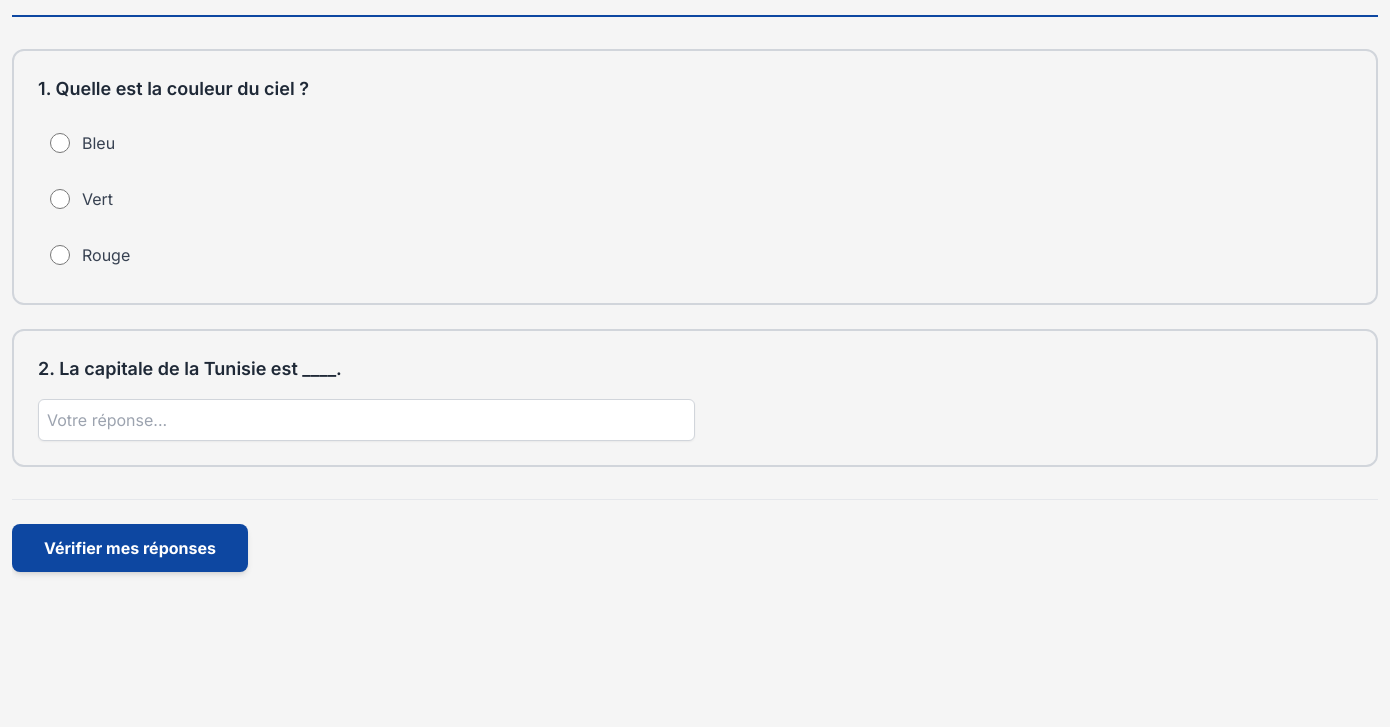
Exercise › permet à l'utilisateur de répondre aux questions et de soumettre
This screenshot has width=1390, height=727.
Click the radio button labelled "Bleu" at (60, 143), box x1=50 y1=133 x2=70 y2=153
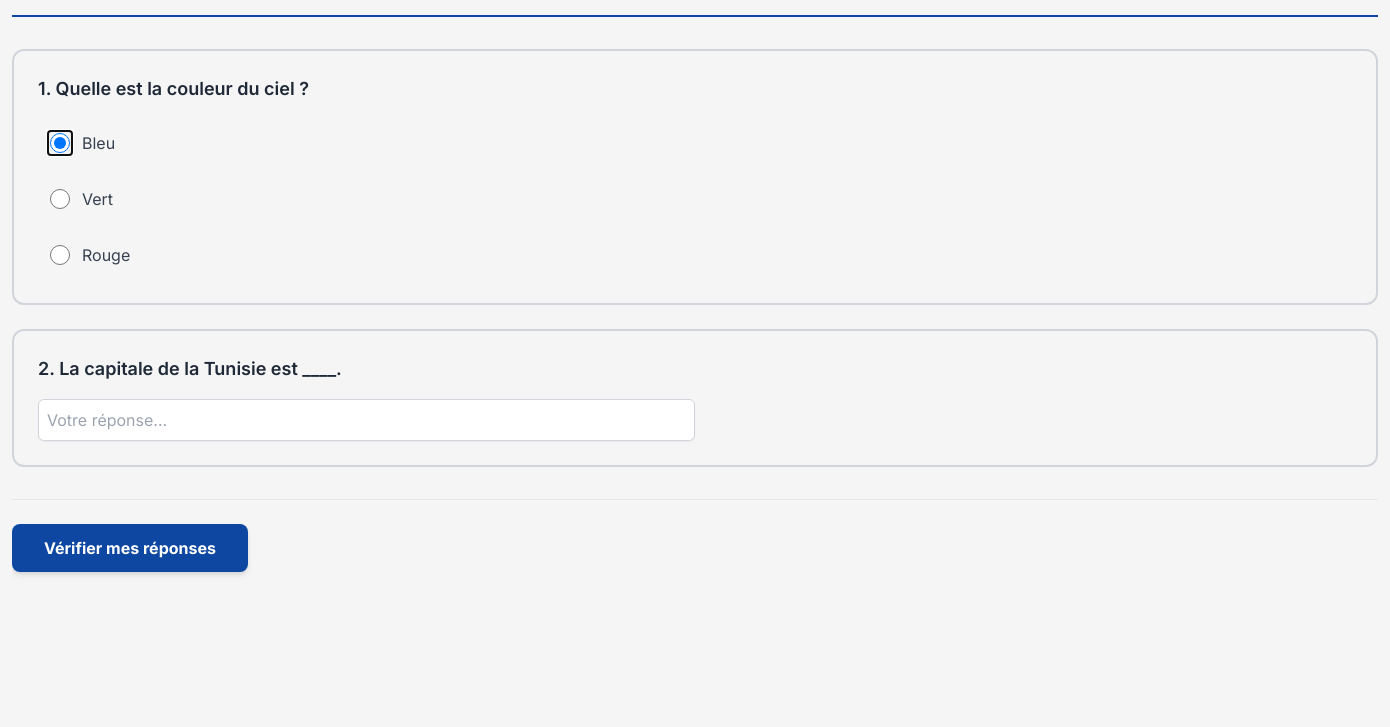
Type "Sfax" into the field with placeholder "Votre réponse..." at (366, 420), box x1=38 y1=399 x2=695 y2=441
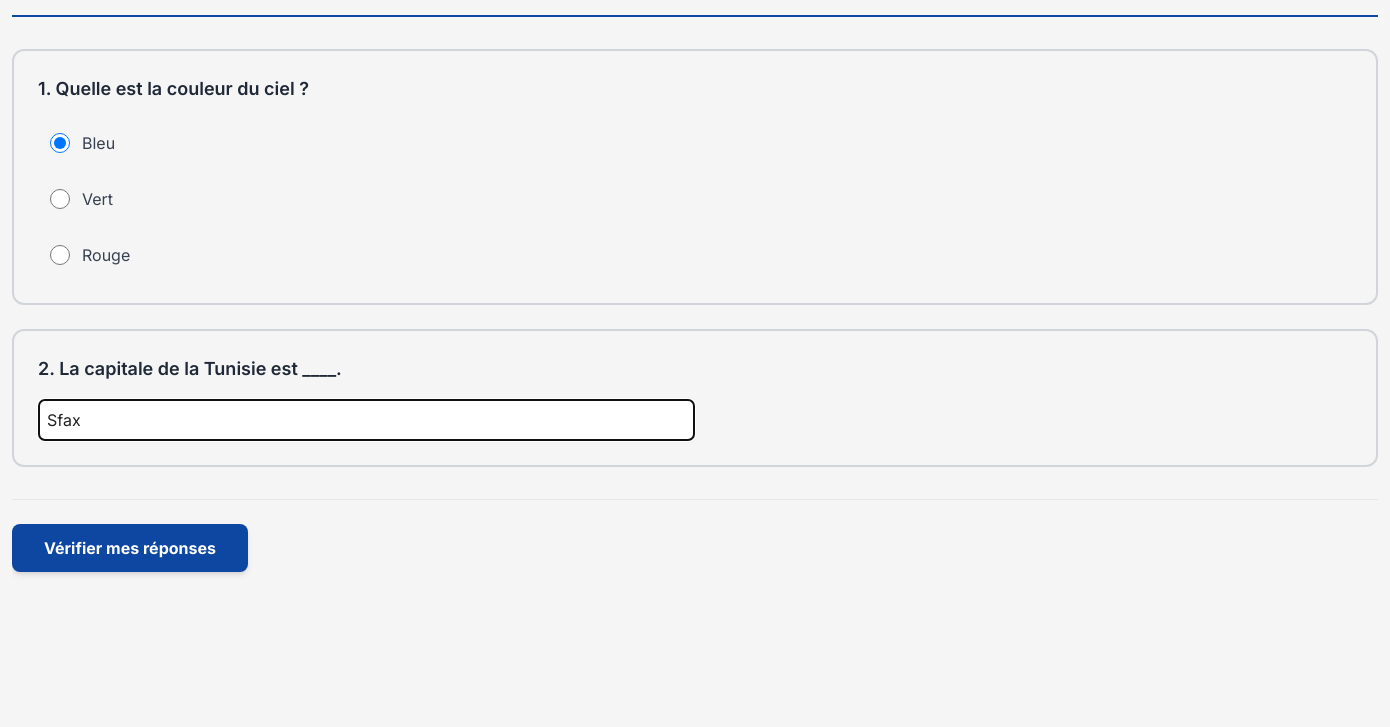
Click the button "Vérifier mes réponses" at (130, 548), box x1=12 y1=524 x2=248 y2=572
(page scrolled)
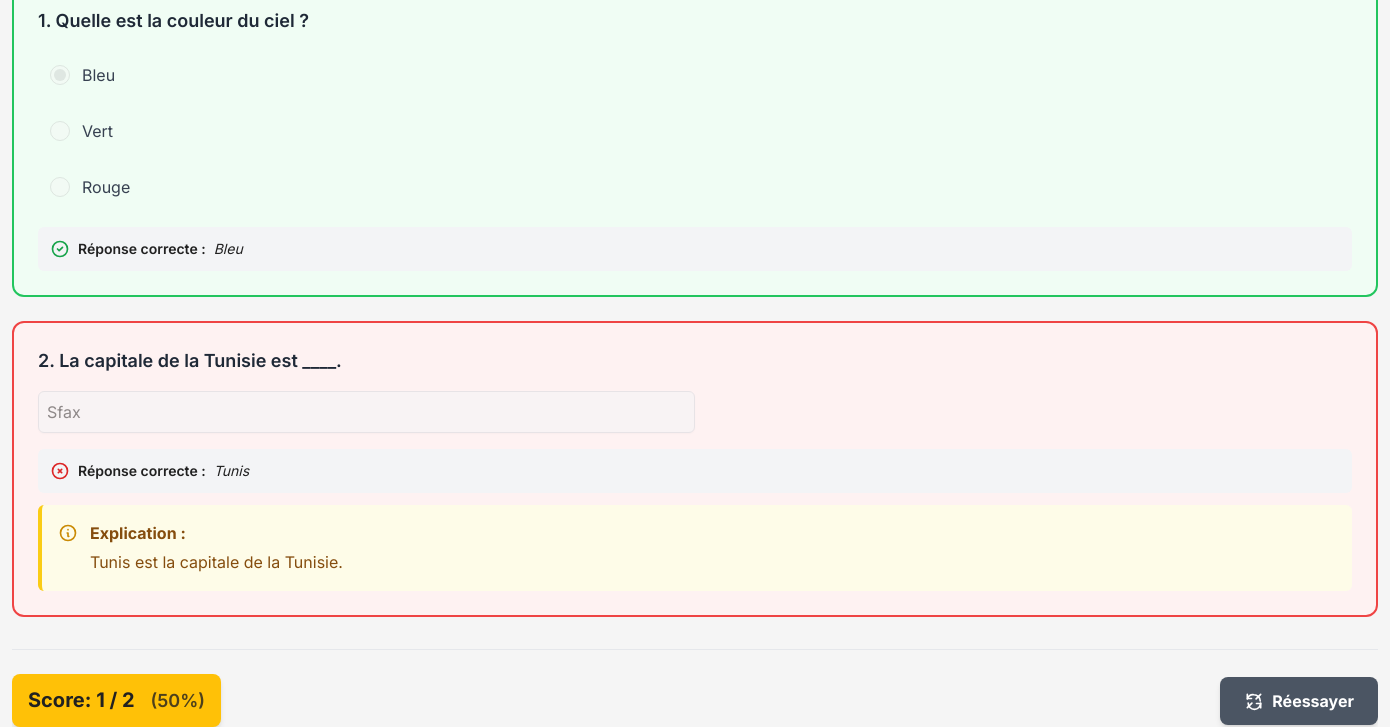
Result: the text "Score: 1 / 2" is shown at x1=28 y1=686 x2=135 y2=714
Result: the text "(50%)" is shown at x1=151 y1=687 x2=205 y2=715
